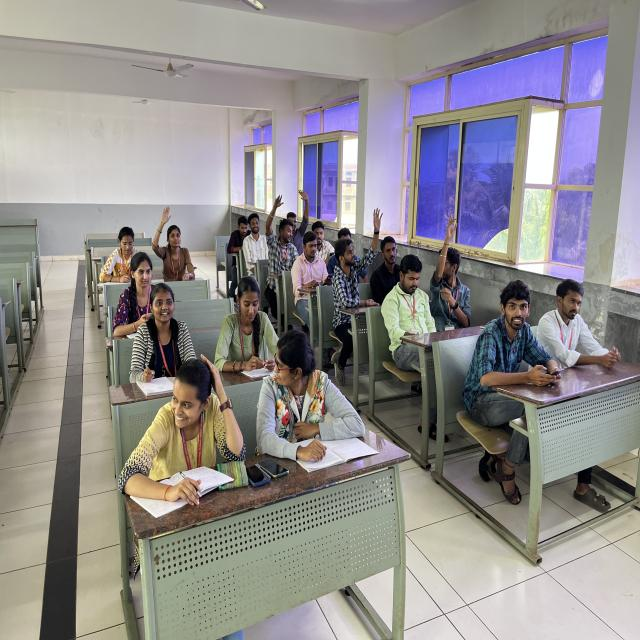Hand Rising: (326, 200, 388, 328), (423, 211, 481, 335), (146, 201, 203, 285), (263, 192, 299, 280)
Reading: (210, 274, 286, 378)
Using Phone: (468, 273, 566, 423), (379, 251, 436, 349)
Writing: (128, 285, 206, 387)
